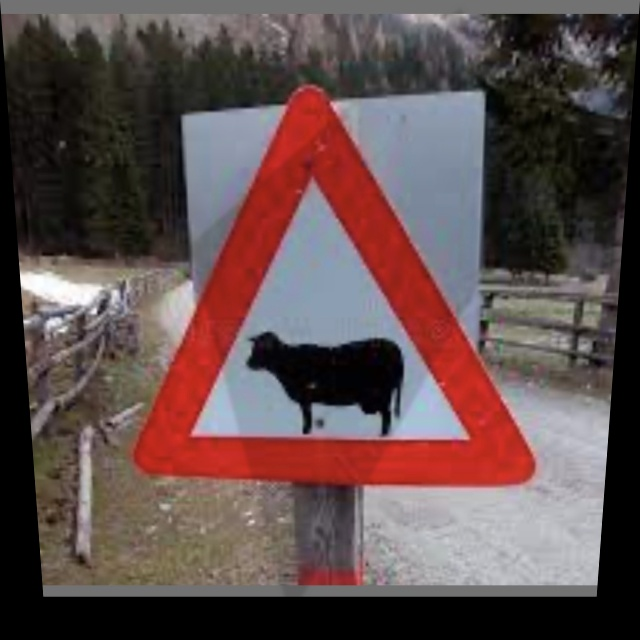Cattle: (148, 109, 537, 487)
